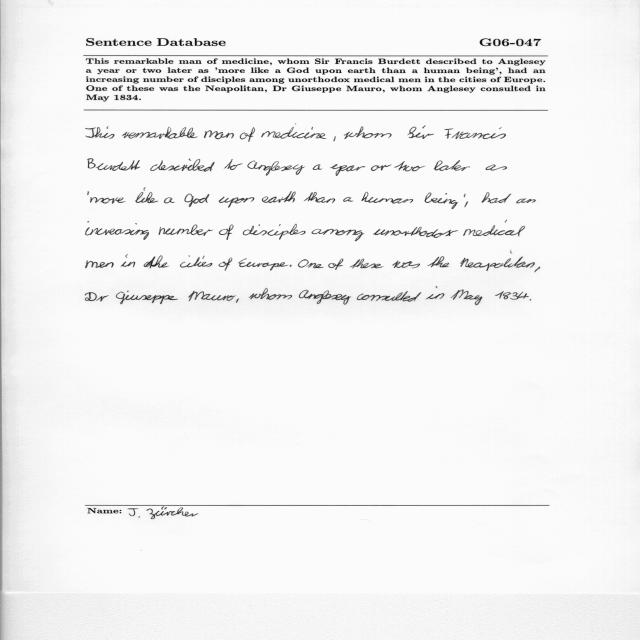word: (460, 250, 535, 271), (86, 221, 149, 240), (463, 220, 525, 237), (243, 224, 306, 240), (261, 124, 326, 139), (373, 227, 458, 238), (122, 127, 198, 139), (247, 161, 305, 176), (150, 159, 215, 172), (116, 291, 178, 304), (299, 290, 351, 305), (444, 127, 506, 139), (357, 291, 421, 302), (312, 229, 365, 241), (344, 126, 392, 139), (88, 159, 140, 171), (239, 259, 289, 271), (159, 225, 213, 236), (425, 193, 459, 210), (362, 192, 413, 203), (249, 288, 292, 300), (188, 291, 236, 301), (451, 290, 483, 305), (330, 164, 366, 176), (262, 191, 296, 203), (434, 160, 470, 171), (219, 197, 255, 208), (180, 256, 212, 268), (86, 126, 114, 139), (408, 125, 434, 139), (135, 188, 158, 203), (304, 192, 335, 203), (144, 256, 170, 269), (481, 193, 511, 204), (350, 259, 383, 269), (185, 194, 210, 207), (395, 161, 426, 171), (495, 291, 529, 300), (204, 131, 234, 140), (90, 197, 126, 204), (427, 257, 449, 268), (219, 224, 234, 240), (298, 260, 324, 269), (427, 286, 445, 299), (86, 292, 109, 302), (240, 127, 255, 142), (86, 261, 114, 269), (392, 261, 420, 269), (224, 159, 243, 170), (219, 257, 233, 271), (121, 255, 135, 268), (328, 259, 343, 270), (371, 164, 391, 171), (486, 165, 507, 171), (516, 199, 536, 204), (164, 197, 175, 204), (313, 164, 323, 170), (343, 197, 354, 202), (534, 267, 540, 273), (465, 202, 468, 208), (236, 298, 239, 303), (334, 137, 336, 142), (464, 194, 466, 197), (88, 191, 89, 195), (290, 265, 292, 267), (530, 299, 532, 301)
